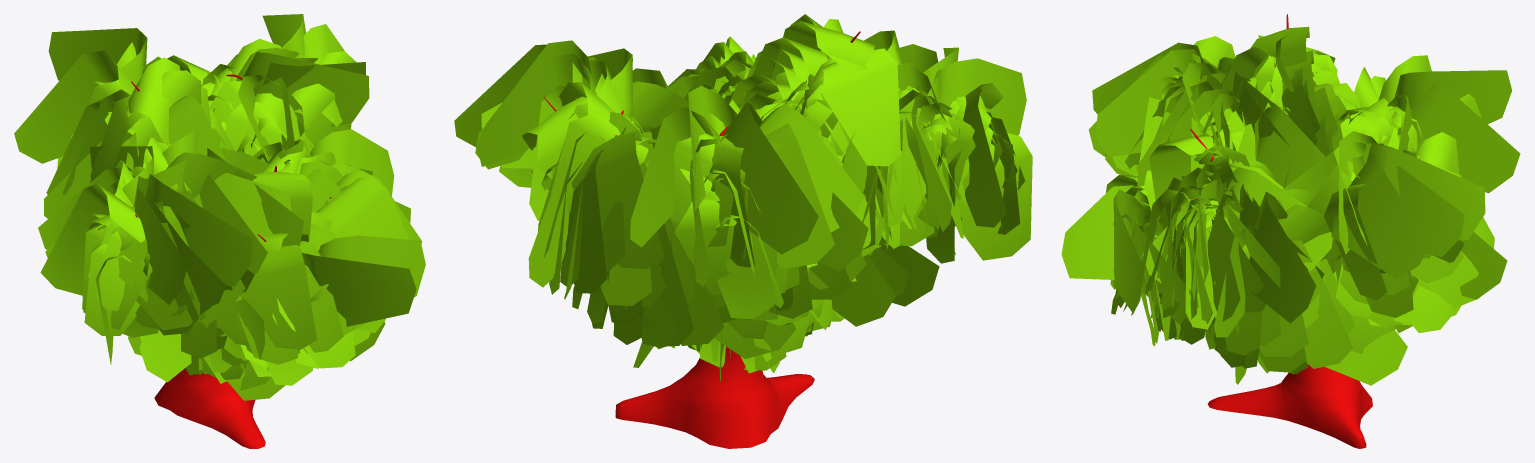
File: boom.fbx
The picture shows the model from 3 angles, left to right: view 1: azimuth 30°, elevation 25°; view 2: azimuth 150°, elevation 25°; view 3: azimuth 270°, elevation 25°; orthographic projection. The views are drawn at different scales.
Parts seen in each view (by area): view 1: Cube.002; view 2: Cube.002; view 3: Cube.002.
Part boxes in pixels (<box>): Cube.002: <box>14,14,425,448</box>; Cube.002: <box>454,14,1032,448</box>; Cube.002: <box>1061,14,1520,448</box>.
Bounding box in the file's own units: 11.51 × 9.94 × 11.64.
